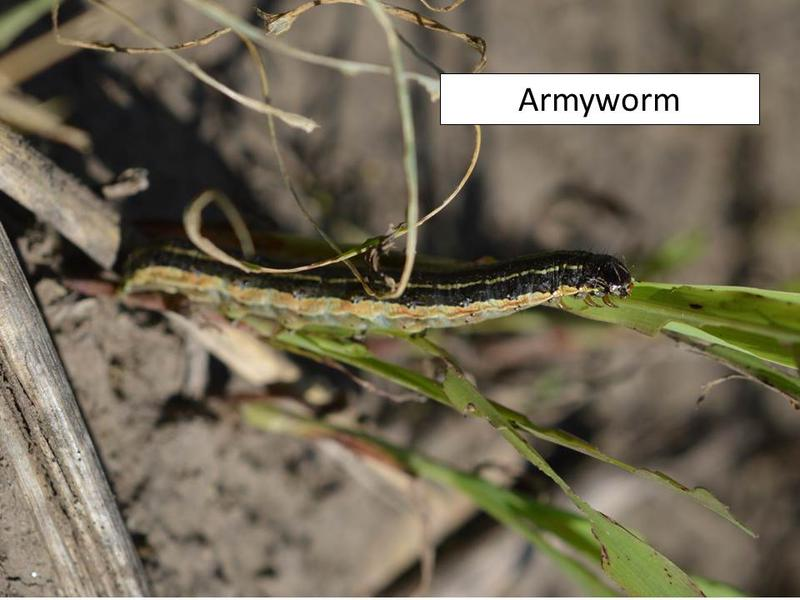Armyworms: (114, 235, 637, 357)
